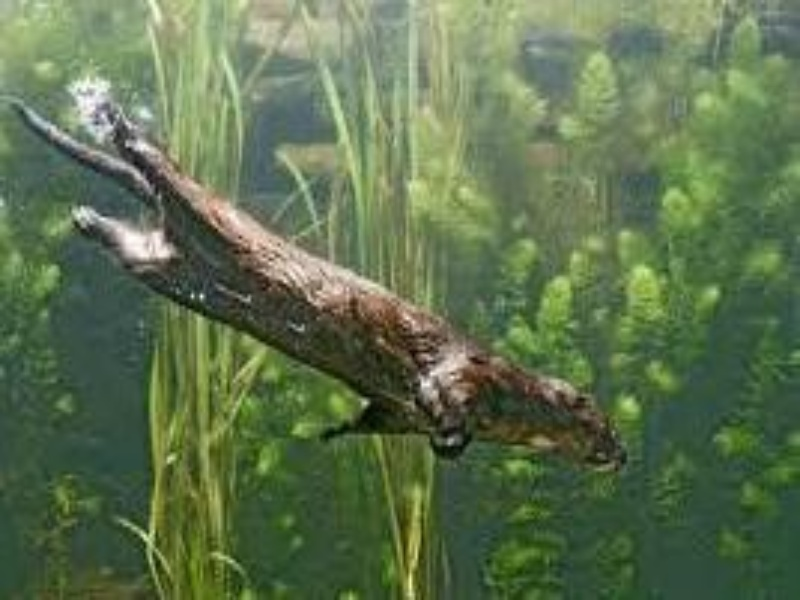minkish: (6, 94, 633, 477)
